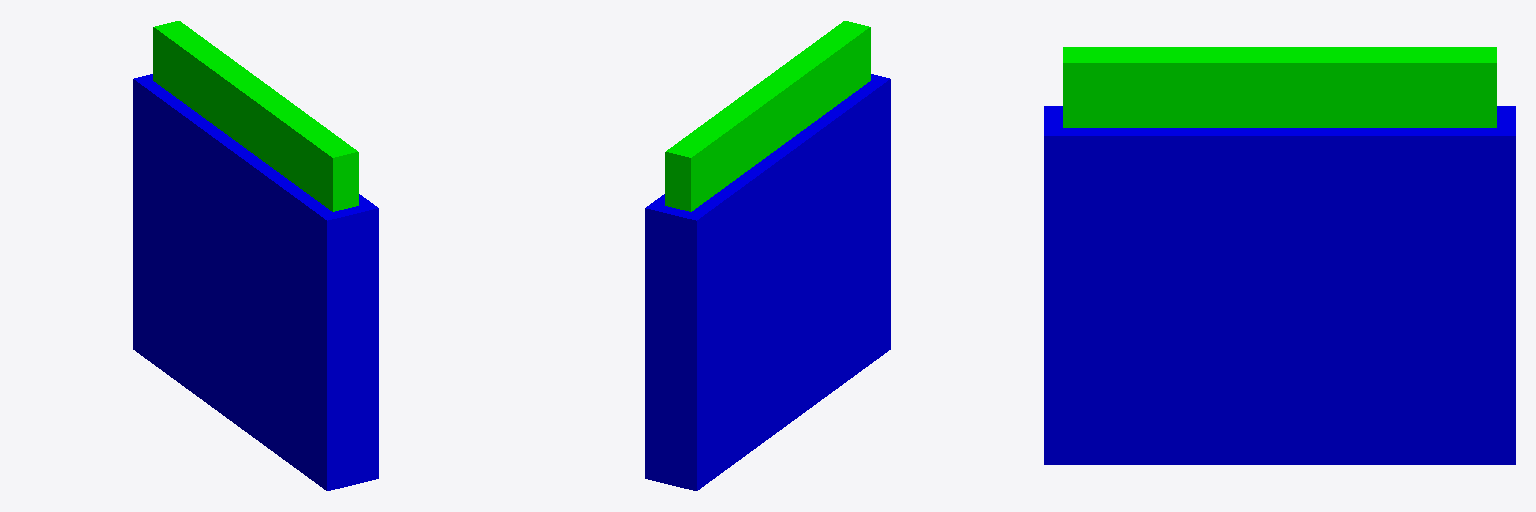
URDF robot description (robot):
<robot name = "robot">
    <link name="root">
        <inertial>
            <origin xyz="0.0 0.0 1.5" rpy="0 0 0"/>
            <mass value="1" />
            <inertia ixx="100" ixy="0" ixz="0" iyy="100" iyz="0" izz="100" />
        </inertial>
        <visual>
            <origin xyz="0.0 0.0 1.5" rpy="0 0 0"/>
            <geometry>
                <box size="0 0 0.0001" />
            </geometry>
            <material name="Green">
                <color rgba="0 1.0 0.0 1.0"/>
            </material>
        </visual>
        <collision>
            <origin xyz="0.0 0.0 1.5" rpy="0 0 0"/>
            <geometry>
                <box size="0 0 0.0001" />
            </geometry>
        </collision>
    </link>
    <joint name="root_000" type="revolute">
       <parent link="root"/>
       <child  link="000"/>
       <origin rpy="0 0 0" xyz="0.0 0.0 1.5" />
     <axis xyz="1 0 0"/>
       <limit effort="0.0" lower="-3.14159" upper="3.14159" velocity="0.0"/>
    </joint>
    <link name="000">
        <inertial>
            <origin xyz="0.0 0.3 0.0" rpy="0 0 0"/>
            <mass value="1" />
            <inertia ixx="100" ixy="0" ixz="0" iyy="100" iyz="0" izz="100" />
        </inertial>
        <visual>
            <origin xyz="0.0 0.3 0.0" rpy="0 0 0"/>
            <geometry>
                <box size="0.1 0.6 0.2" />
            </geometry>
            <material name="Green">
                <color rgba="0 1.0 0.0 1.0"/>
            </material>
        </visual>
        <collision>
            <origin xyz="0.0 0.3 0.0" rpy="0 0 0"/>
            <geometry>
                <box size="0.1 0.6 0.2" />
            </geometry>
        </collision>
    </link>
    <joint name="000_010" type="revolute">
       <parent link="000"/>
       <child  link="010"/>
       <origin rpy="0 0 0" xyz="0.0 0.6 -0.0" />
     <axis xyz="0 1 0"/>
       <limit effort="0.0" lower="-3.14159" upper="3.14159" velocity="0.0"/>
    </joint>
    <link name="010">
        <inertial>
            <origin xyz="0.0 0.3 -0.0" rpy="0 0 0"/>
            <mass value="1" />
            <inertia ixx="100" ixy="0" ixz="0" iyy="100" iyz="0" izz="100" />
        </inertial>
        <visual>
            <origin xyz="0.0 0.3 -0.0" rpy="0 0 0"/>
            <geometry>
                <box size="0.1 0.6 0.2" />
            </geometry>
            <material name="Green">
                <color rgba="0 1.0 0.0 1.0"/>
            </material>
        </visual>
        <collision>
            <origin xyz="0.0 0.3 -0.0" rpy="0 0 0"/>
            <geometry>
                <box size="0.1 0.6 0.2" />
            </geometry>
        </collision>
    </link>
    <joint name="010_010-100" type="revolute">
       <parent link="010"/>
       <child  link="010-100"/>
       <origin rpy="0 0 0" xyz="0.0 0.3 -0.1" />
     <axis xyz="0 0 1"/>
       <limit effort="0.0" lower="-3.14159" upper="3.14159" velocity="0.0"/>
    </joint>
    <link name="010-100">
        <inertial>
            <origin xyz="0.0 0.0 -0.25" rpy="0 0 0"/>
            <mass value="1" />
            <inertia ixx="100" ixy="0" ixz="0" iyy="100" iyz="0" izz="100" />
        </inertial>
        <visual>
            <origin xyz="0.0 0.0 -0.25" rpy="0 0 0"/>
            <geometry>
                <box size="0.2 0.7 0.5" />
            </geometry>
            <material name="Blue">
                <color rgba="0 0.0 1.0 1.0"/>
            </material>
        </visual>
        <collision>
            <origin xyz="0.0 0.0 -0.25" rpy="0 0 0"/>
            <geometry>
                <box size="0.2 0.7 0.5" />
            </geometry>
        </collision>
    </link>
    <joint name="010-100_010-110" type="revolute">
       <parent link="010-100"/>
       <child  link="010-110"/>
       <origin rpy="0 0 0" xyz="0.0 0.0 -0.5" />
     <axis xyz="0 0 1"/>
       <limit effort="0.0" lower="-3.14159" upper="3.14159" velocity="0.0"/>
    </joint>
    <link name="010-110">
        <inertial>
            <origin xyz="0.0 0.0 -0.25" rpy="0 0 0"/>
            <mass value="1" />
            <inertia ixx="100" ixy="0" ixz="0" iyy="100" iyz="0" izz="100" />
        </inertial>
        <visual>
            <origin xyz="0.0 0.0 -0.25" rpy="0 0 0"/>
            <geometry>
                <box size="0.2 0.7 0.5" />
            </geometry>
            <material name="Blue">
                <color rgba="0 0.0 1.0 1.0"/>
            </material>
        </visual>
        <collision>
            <origin xyz="0.0 0.0 -0.25" rpy="0 0 0"/>
            <geometry>
                <box size="0.2 0.7 0.5" />
            </geometry>
        </collision>
    </link>
    <joint name="000_000-100" type="revolute">
       <parent link="000"/>
       <child  link="000-100"/>
       <origin rpy="0 0 0" xyz="0.0 0.3 -0.1" />
     <axis xyz="0 0 1"/>
       <limit effort="0.0" lower="-3.14159" upper="3.14159" velocity="0.0"/>
    </joint>
    <link name="000-100">
        <inertial>
            <origin xyz="0.0 0.0 -0.25" rpy="0 0 0"/>
            <mass value="1" />
            <inertia ixx="100" ixy="0" ixz="0" iyy="100" iyz="0" izz="100" />
        </inertial>
        <visual>
            <origin xyz="0.0 0.0 -0.25" rpy="0 0 0"/>
            <geometry>
                <box size="0.2 0.7 0.5" />
            </geometry>
            <material name="Blue">
                <color rgba="0 0.0 1.0 1.0"/>
            </material>
        </visual>
        <collision>
            <origin xyz="0.0 0.0 -0.25" rpy="0 0 0"/>
            <geometry>
                <box size="0.2 0.7 0.5" />
            </geometry>
        </collision>
    </link>
    <joint name="000-100_000-110" type="revolute">
       <parent link="000-100"/>
       <child  link="000-110"/>
       <origin rpy="0 0 0" xyz="0.0 0.0 -0.5" />
     <axis xyz="0 0 1"/>
       <limit effort="0.0" lower="-3.14159" upper="3.14159" velocity="0.0"/>
    </joint>
    <link name="000-110">
        <inertial>
            <origin xyz="0.0 0.0 -0.25" rpy="0 0 0"/>
            <mass value="1" />
            <inertia ixx="100" ixy="0" ixz="0" iyy="100" iyz="0" izz="100" />
        </inertial>
        <visual>
            <origin xyz="0.0 0.0 -0.25" rpy="0 0 0"/>
            <geometry>
                <box size="0.2 0.7 0.5" />
            </geometry>
            <material name="Blue">
                <color rgba="0 0.0 1.0 1.0"/>
            </material>
        </visual>
        <collision>
            <origin xyz="0.0 0.0 -0.25" rpy="0 0 0"/>
            <geometry>
                <box size="0.2 0.7 0.5" />
            </geometry>
        </collision>
    </link>
</robot>

--- Facts derived from the render (not from the file) ---
3 views of the same robot in one strip: view 1: azimuth 30°, elevation 25°; view 2: azimuth 150°, elevation 25°; view 3: azimuth 270°, elevation 25° (orthographic).
Model robot with 7 links and 6 joints (6 revolute), rooted at root, posed all joints at 0.
Links seen in each view (by area): view 1: 000-100, 000-110, 010-100, 010-110, 000, 010; view 2: 010-100, 010-110, 000-100, 000-110, 010, 000; view 3: 010-100, 010-110, 000-100, 000-110, 000, 010.
Boxes of the visible links, x1,y1,x2,y2 form: 000-100: [223, 141, 378, 355]; 000-110: [238, 291, 378, 490]; 010-100: [133, 74, 246, 289]; 010-110: [133, 214, 237, 425]; 000: [243, 86, 358, 211]; 010: [153, 21, 267, 145]; 010-100: [645, 146, 800, 355]; 010-110: [645, 281, 800, 490]; 000-100: [774, 74, 890, 288]; 000-110: [786, 214, 890, 423]; 010: [665, 86, 780, 211]; 000: [756, 21, 870, 145]; 010-100: [1262, 106, 1515, 299]; 010-110: [1262, 300, 1515, 464]; 000-100: [1044, 106, 1297, 299]; 000-110: [1044, 300, 1297, 464]; 000: [1063, 47, 1279, 127]; 010: [1280, 47, 1496, 127].
Size in the robot's own frame: 0.2 by 1.3 by 1.2 metres.
Geometry: primitives only (box / cylinder / sphere), no mesh files.
